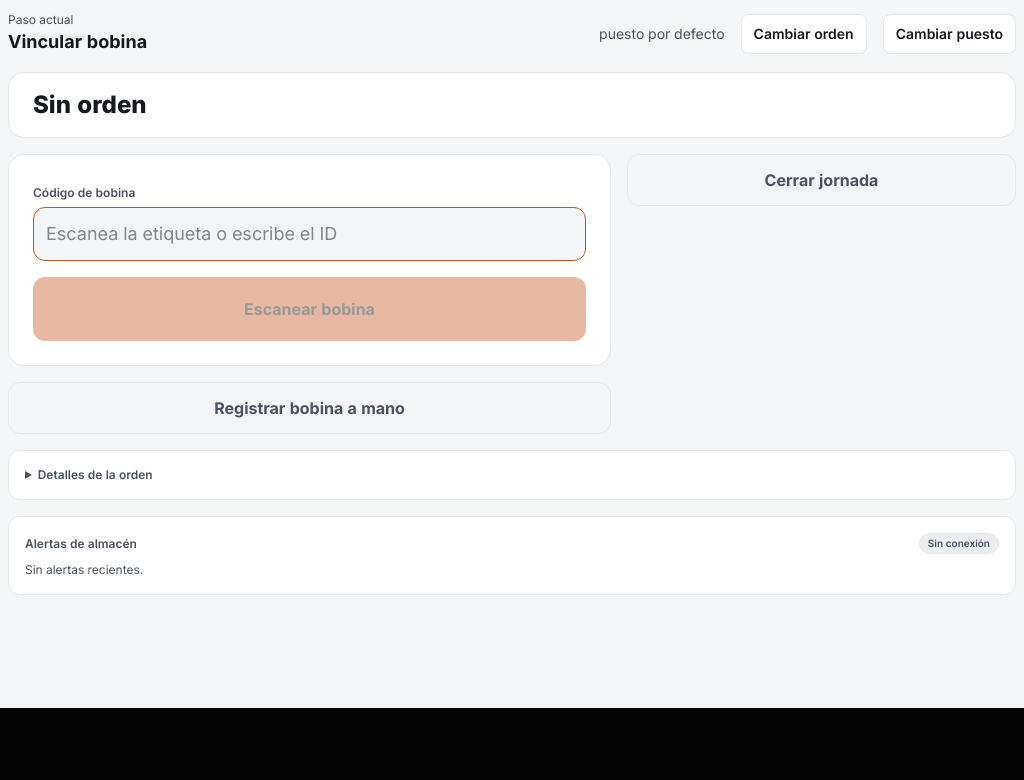
Panel de Operario (directriz no abrumar) › al escanear, muestra la ficha de la bobina con sus datos
The width and height of the screenshot is (1024, 780).
Type "COIL-L-DEMO" into the field with placeholder "Escanea la etiqueta o escribe el ID" at (310, 234), box [33,207,586,261]
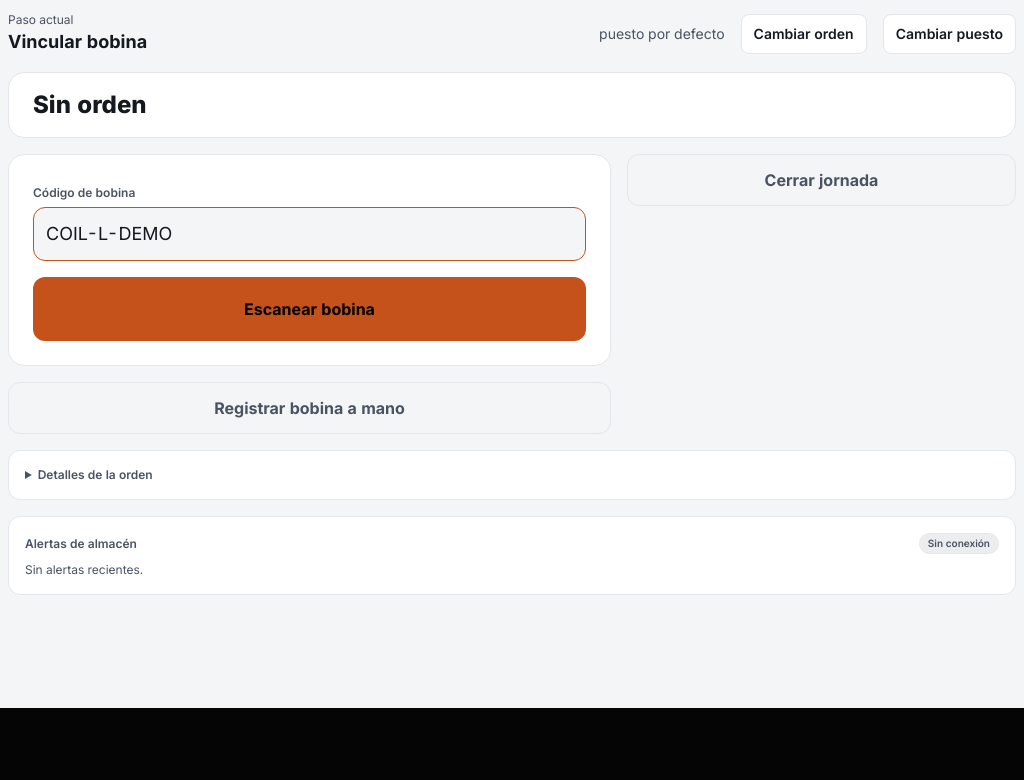
Click the button "Escanear bobina" at (310, 309), box [33,277,586,341]
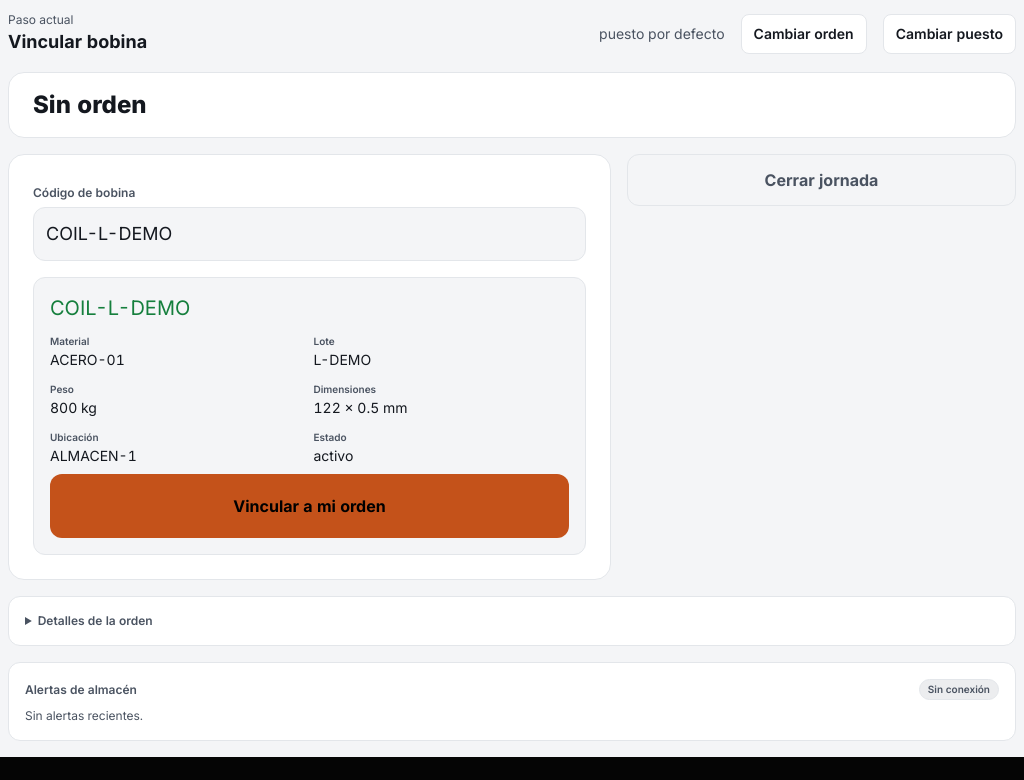
Expected: the text "COIL-L-DEMO" is shown, [50,296,190,320]
Expected: the text "ACERO-01" is shown, [50,351,125,368]
Expected: the text "800 kg" is shown, [50,399,97,416]
